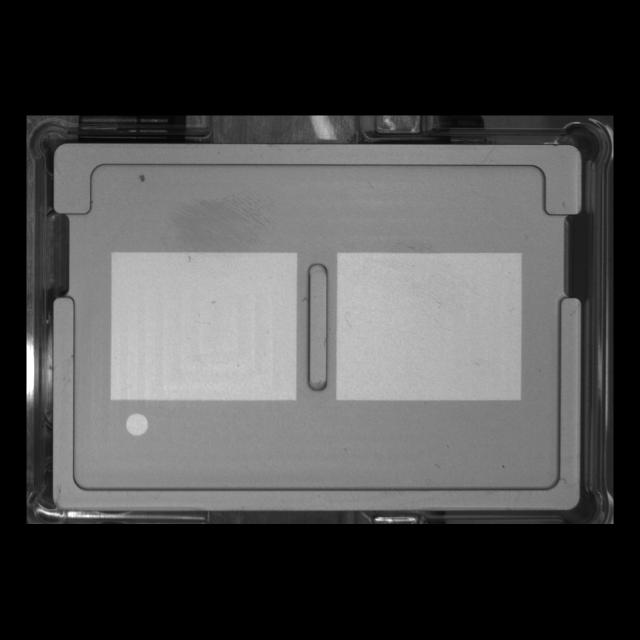door: (45, 136, 590, 224)
point: (121, 408, 153, 444)
